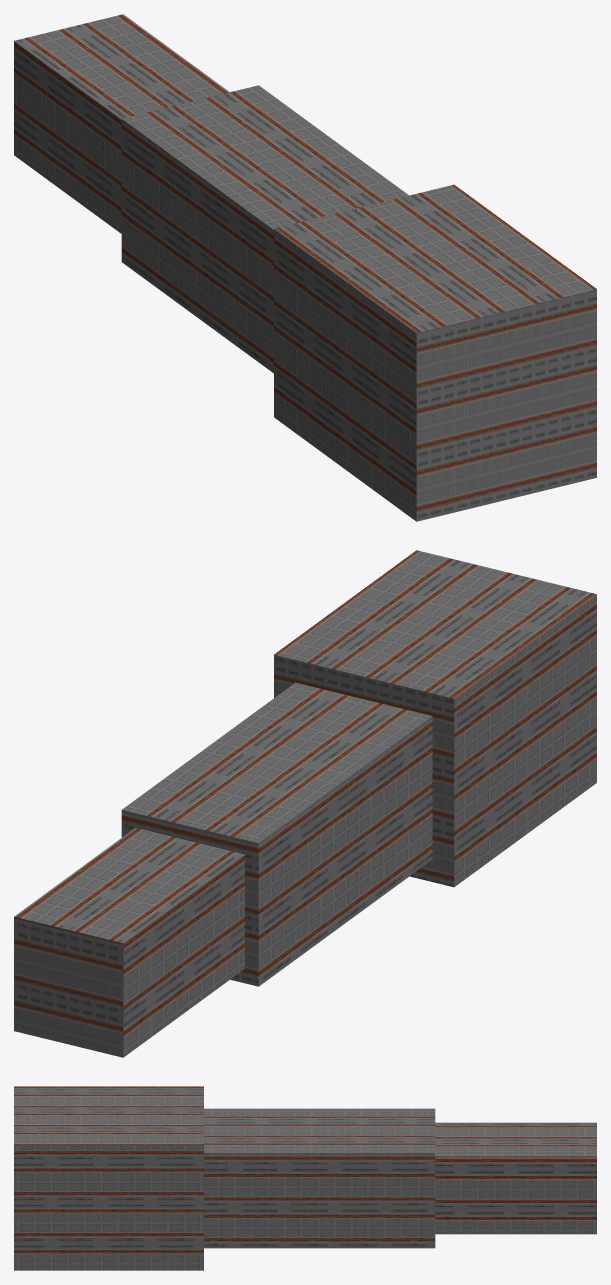
File: turret.gltf
3 views of the same model, one above another, from view 1: azimuth 30°, elevation 25°; view 2: azimuth 150°, elevation 25°; view 3: azimuth 270°, elevation 25° (orthographic). The views are drawn at different scales.
Parts seen in each view (by area): view 1: Cube; view 2: Cube; view 3: Cube.
Part boxes in pixels (box(x1,y1,x2,y2)): Cube: box(14, 14, 596, 521); Cube: box(14, 550, 596, 1057); Cube: box(14, 1086, 596, 1270).
Size of the model in its own units: 1 by 1 by 4.21.
Materials: 1 (1 with a texture image).
